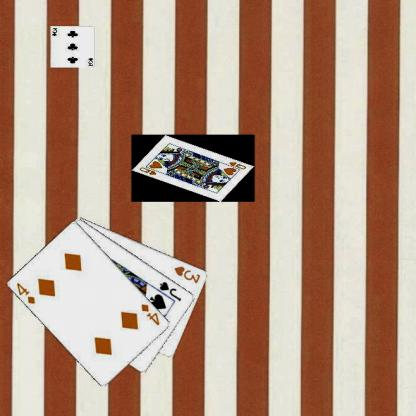3H: (171, 264, 202, 284)
4D: (138, 301, 162, 327), (14, 280, 37, 305)
JS: (157, 279, 183, 302)
